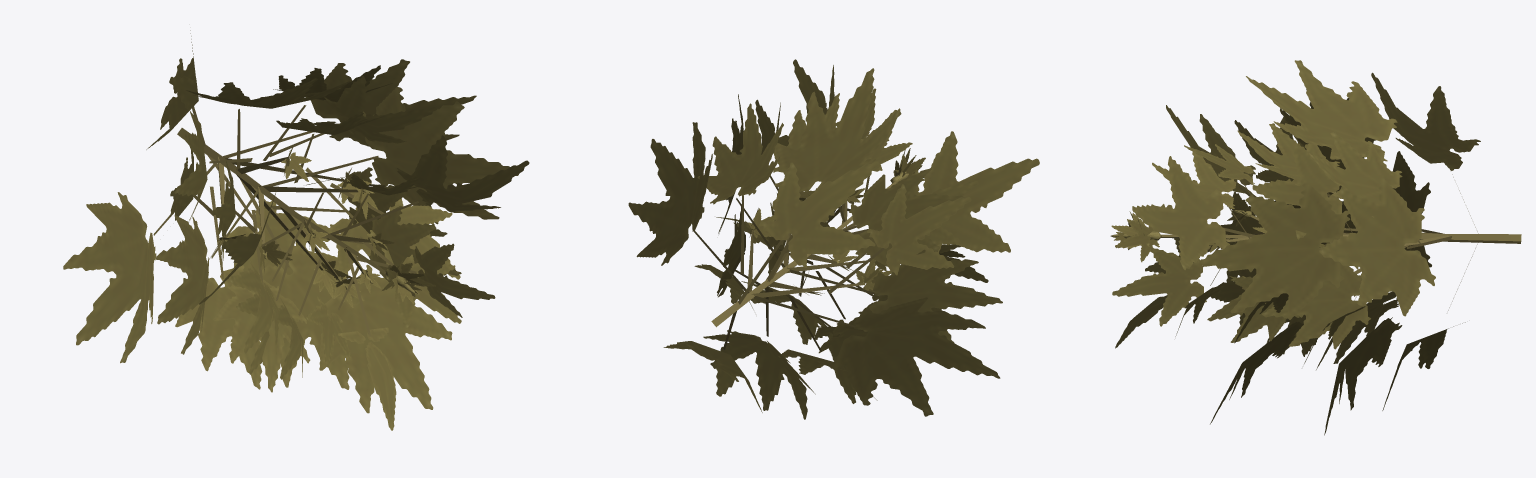
Rendered from p_tree_preflower_c2_cards.obj.
3 views of the same model, side by side, from view 1: azimuth 30°, elevation 25°; view 2: azimuth 150°, elevation 25°; view 3: azimuth 270°, elevation 25° (orthographic). The views are drawn at different scales.
Size of the model in its own units: 1.63 by 1.38 by 1.32.
Materials: 1 (1 with a texture image).
